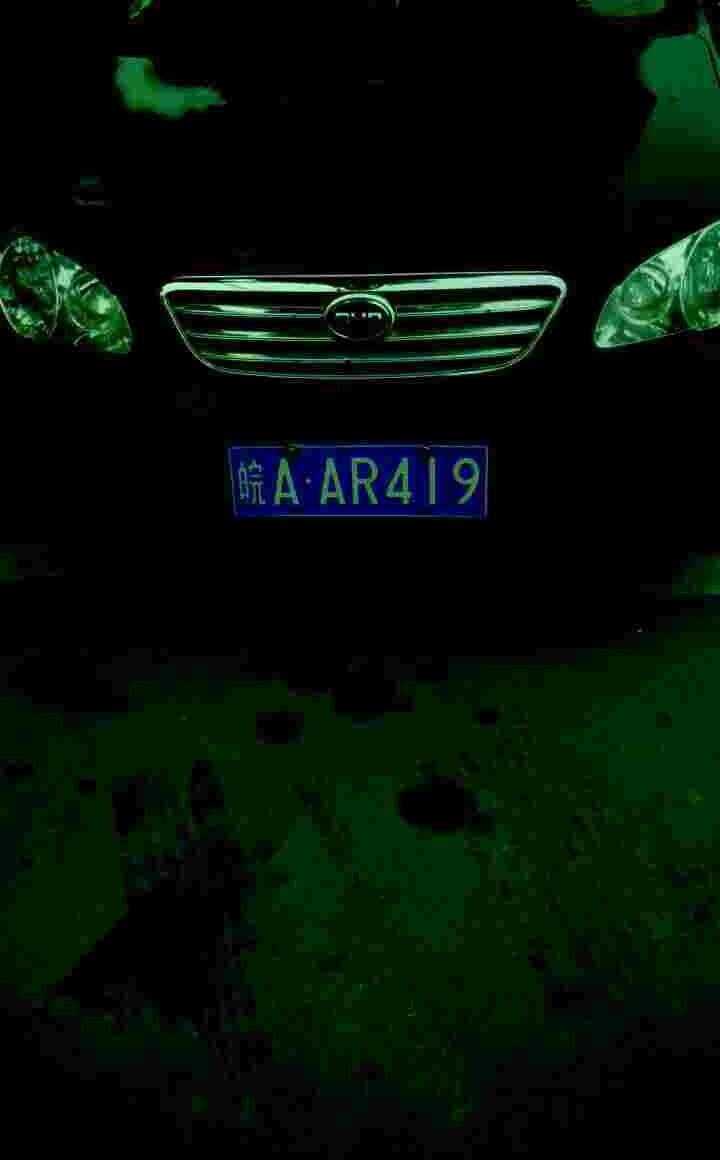license_plate: (216, 436, 492, 528)
